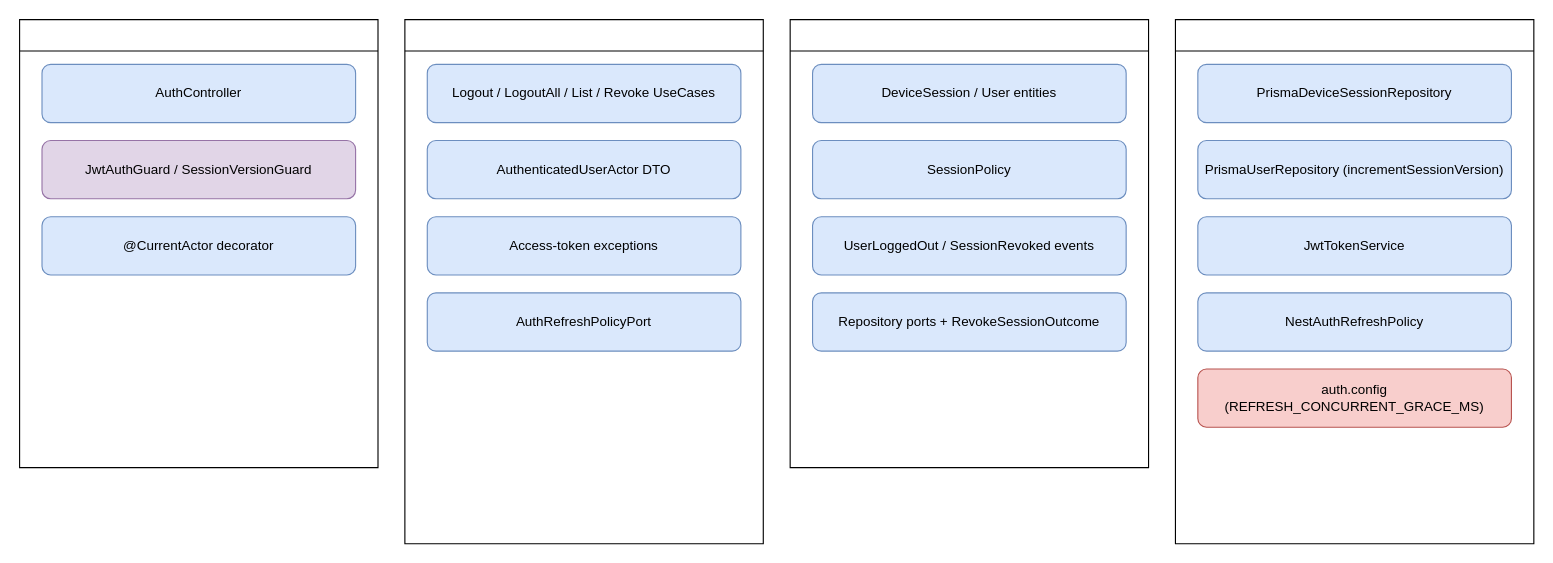
Some shapes in this 1553 by 563 pixel diagram are drawn without their labels. Here are the shapes that lost their labels. From the top down, the box of each, then its label:
(18, 18, 378, 468): Presentation
(789, 18, 1149, 468): Domain
(404, 18, 763, 544): Application
(1174, 18, 1534, 544): Infrastructure
